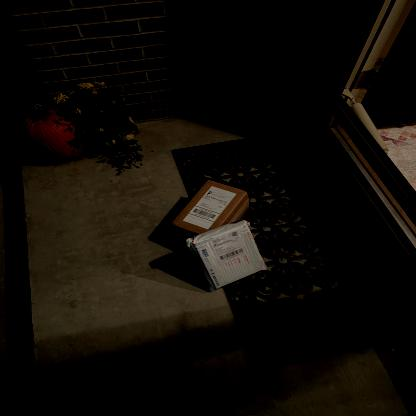box: (172, 179, 247, 234)
plastic_bag: (186, 221, 266, 293)
